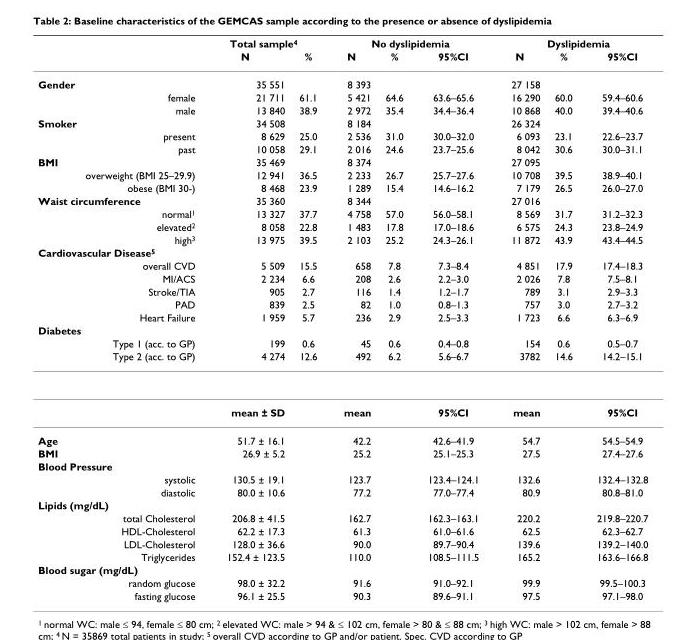table: (37, 36, 647, 601)
table column: (37, 36, 210, 601), (210, 36, 291, 601), (414, 36, 494, 601), (583, 36, 647, 601), (494, 36, 546, 601), (329, 36, 377, 601), (291, 36, 329, 601), (377, 36, 414, 601), (546, 36, 583, 601)
table column header: (37, 36, 647, 69)
table projected row header: (37, 562, 647, 576), (37, 245, 647, 258), (37, 323, 647, 336), (37, 459, 647, 472), (37, 498, 647, 511)
table row: (37, 383, 647, 425), (37, 349, 647, 383), (37, 69, 647, 90), (37, 425, 647, 446), (37, 49, 647, 69), (37, 562, 647, 576), (37, 36, 647, 49), (37, 90, 647, 103), (37, 103, 647, 116), (37, 116, 647, 129), (37, 129, 647, 142), (37, 142, 647, 155), (37, 155, 647, 168), (37, 168, 647, 181), (37, 193, 647, 206), (37, 206, 647, 219), (37, 219, 647, 232), (37, 232, 647, 245), (37, 245, 647, 258), (37, 258, 647, 271), (37, 271, 647, 284), (37, 284, 647, 297), (37, 297, 647, 310), (37, 310, 647, 323), (37, 323, 647, 336), (37, 336, 647, 349), (37, 446, 647, 459), (37, 459, 647, 472), (37, 472, 647, 485), (37, 485, 647, 498), (37, 498, 647, 511), (37, 511, 647, 524), (37, 524, 647, 537), (37, 537, 647, 550), (37, 588, 647, 601), (37, 181, 647, 193), (37, 550, 647, 562), (37, 576, 647, 588)
table spanning cell: (37, 349, 210, 425), (329, 36, 494, 49), (494, 36, 647, 49), (210, 36, 329, 49)
